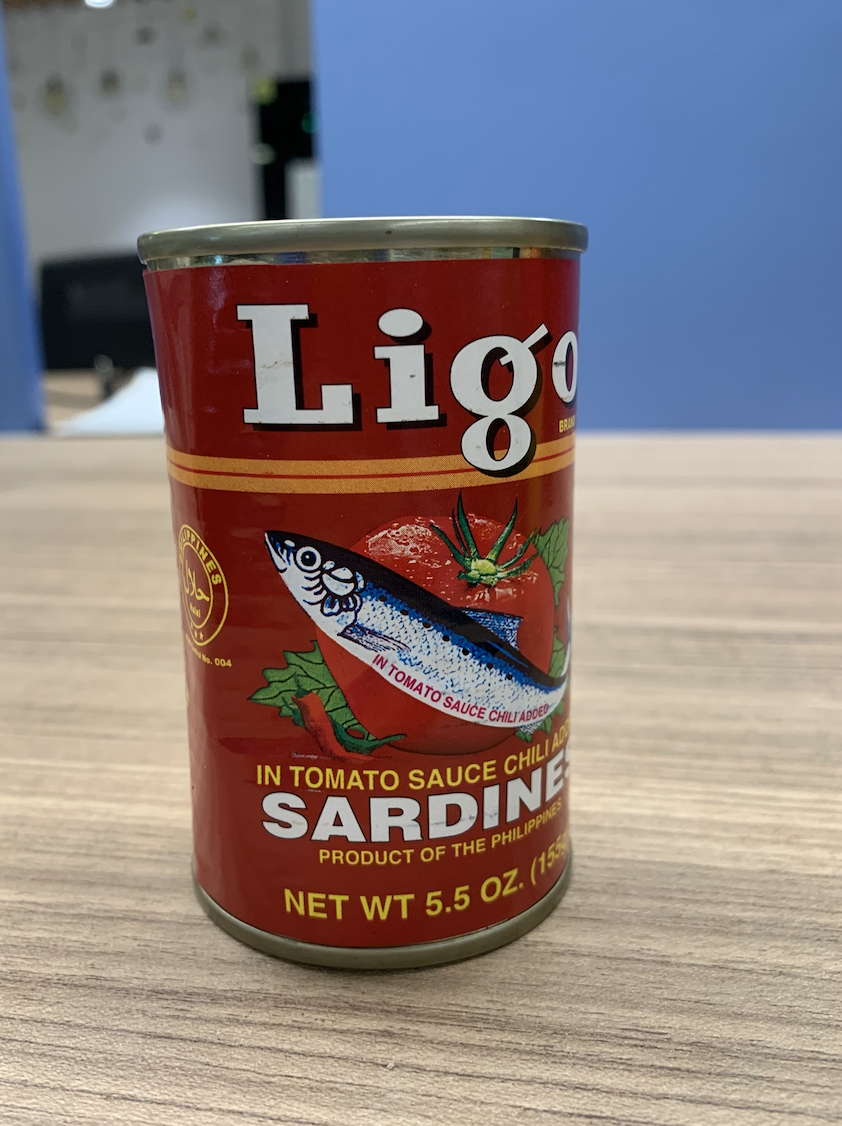sardines_150g: (177, 268, 572, 927)
